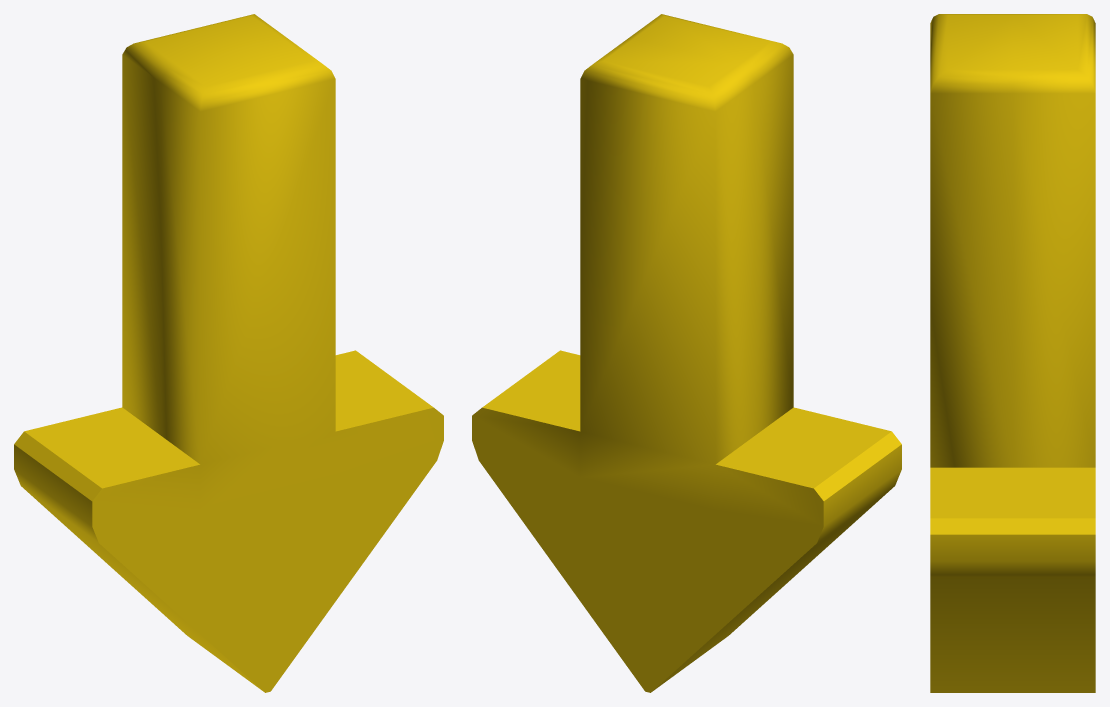
Rendered from Icon_arrow.FBX.
3 views of the same model, side by side, from view 1: azimuth 30°, elevation 25°; view 2: azimuth 150°, elevation 25°; view 3: azimuth 270°, elevation 25° (orthographic). The views are drawn at different scales.
Parts seen in each view (by area): view 1: Box001; view 2: Box001; view 3: Box001.
Part boxes in pixels (bbox=[...]): Box001: bbox=[14, 14, 443, 692]; Box001: bbox=[472, 14, 901, 692]; Box001: bbox=[930, 14, 1095, 692].
Bounding box in the file's own units: 130 × 216 × 50.
